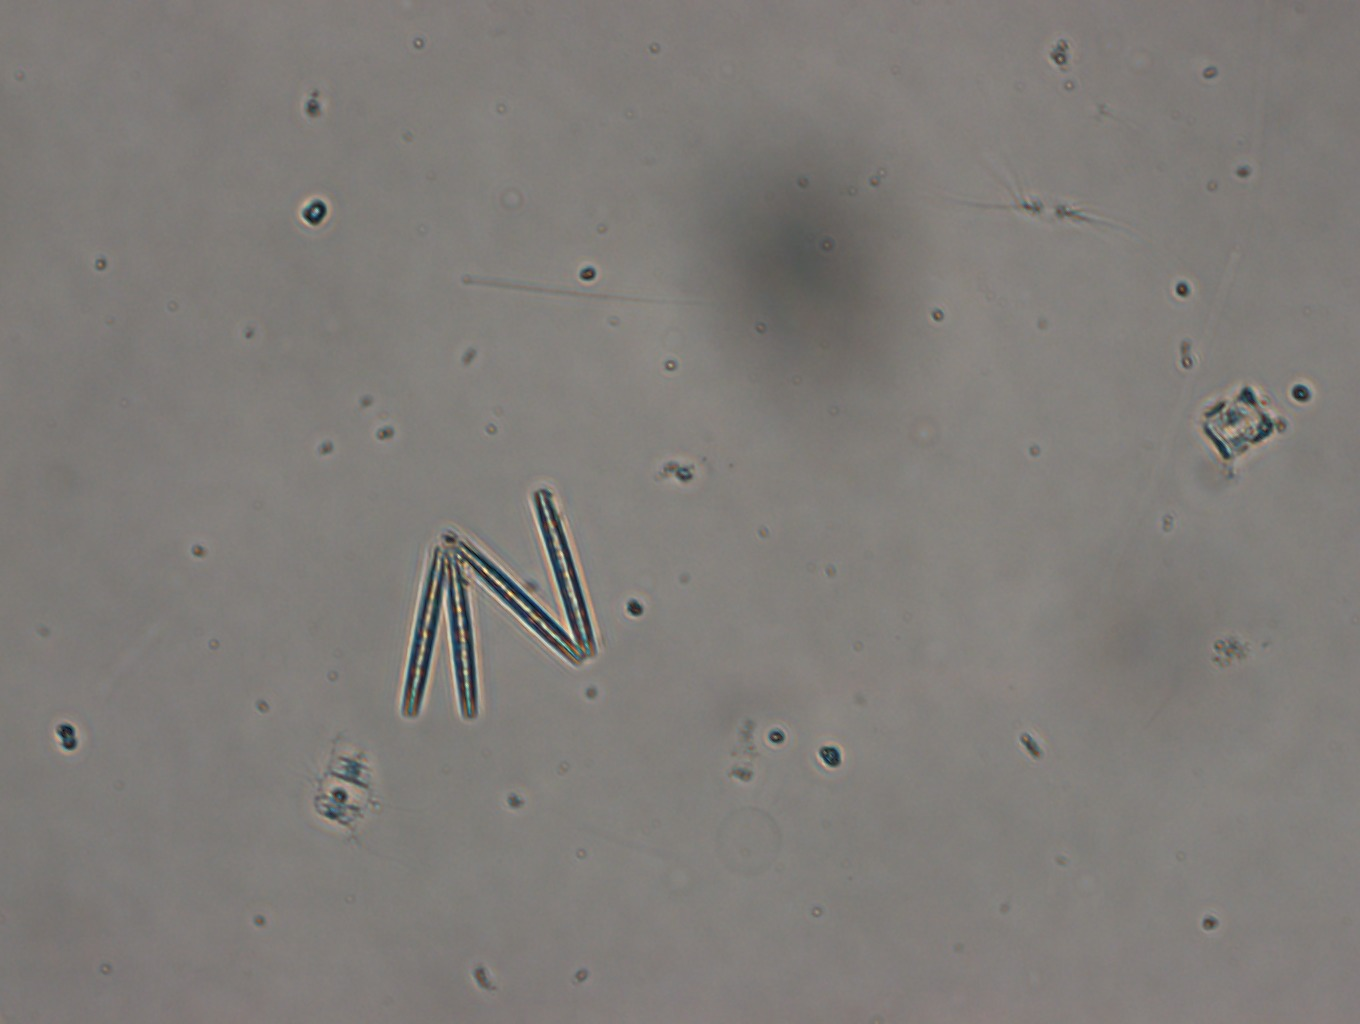thalassionema nitzschioides: (388, 484, 604, 716)
